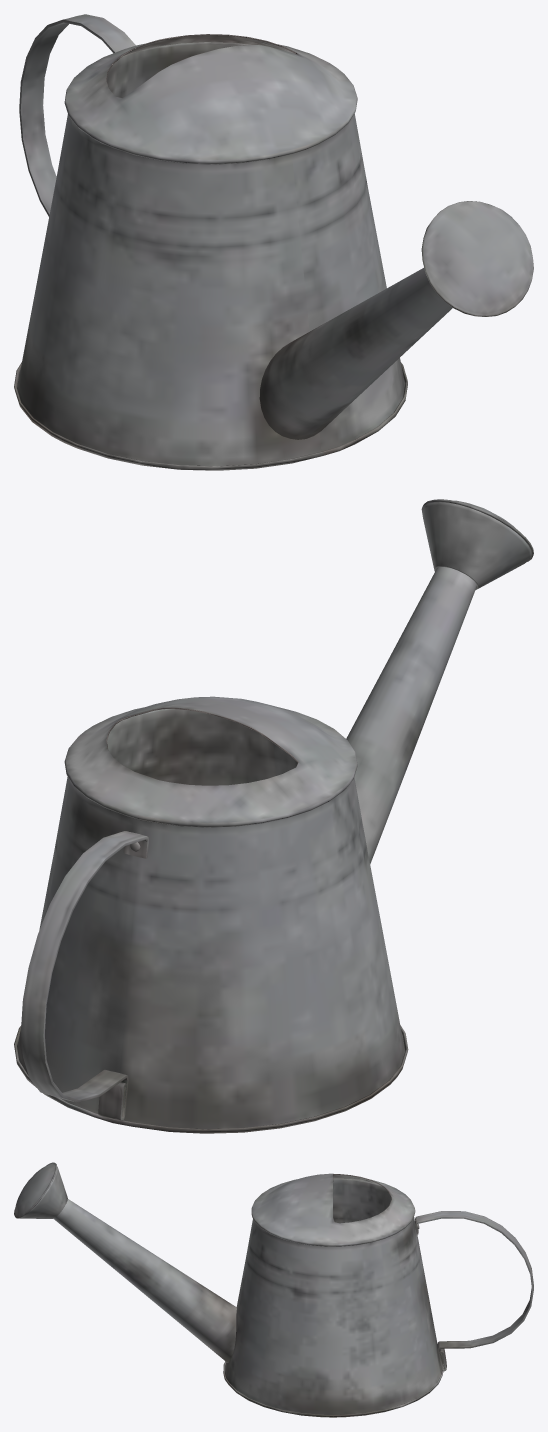
File: watering_can_metal_01_lod1.glb
3 views of the same model, one above another, from view 1: azimuth 30°, elevation 25°; view 2: azimuth 150°, elevation 25°; view 3: azimuth 270°, elevation 25° (orthographic). The views are drawn at different scales.
Visible parts, largest first — view 1: watering_can_metal_01; view 2: watering_can_metal_01; view 3: watering_can_metal_01.
Boxes of the visible parts, <box> form: watering_can_metal_01: <box>14,14,533,470</box>; watering_can_metal_01: <box>14,499,533,1133</box>; watering_can_metal_01: <box>14,1162,533,1417</box>.
Size of the model in its own units: 0.1909 by 0.1967 by 0.4523.
Materials: 1 (1 with a texture image).
